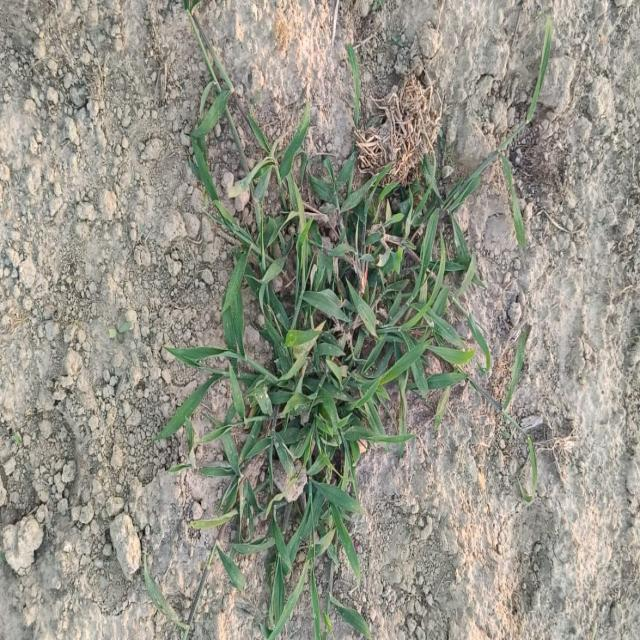weed: (156, 16, 552, 640), (529, 436, 537, 485)
